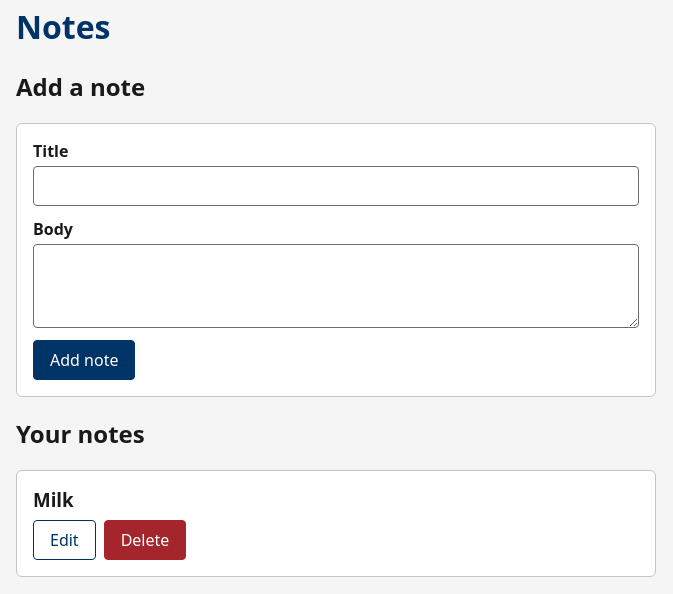
it: App › removes a deleted note from the list
Click the button with aria-label "Delete Milk".
click(145, 540)  # box [104, 520, 186, 560]
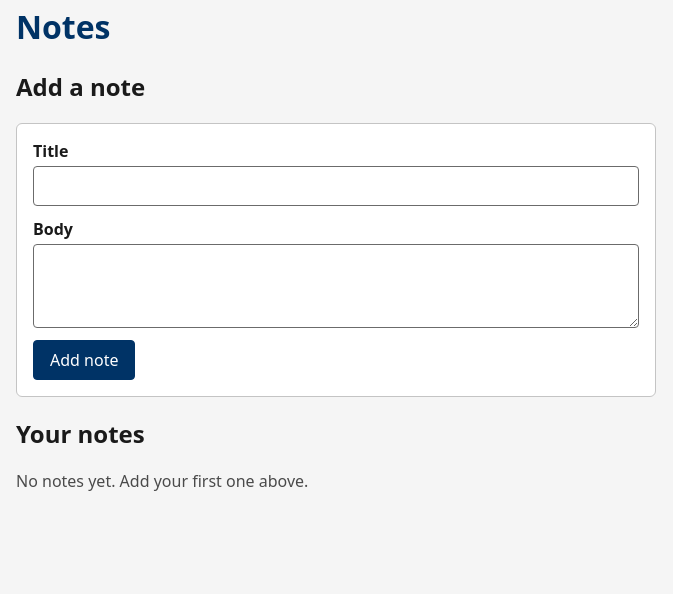
Expected: the text "No notes yet. Add your first one above." is shown, [16, 470, 308, 492]
